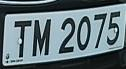0: (76, 11, 92, 54)
2: (59, 16, 77, 57)
5: (107, 11, 121, 50)
7: (94, 9, 107, 52)
M: (32, 15, 52, 62)
T: (10, 16, 30, 62)
